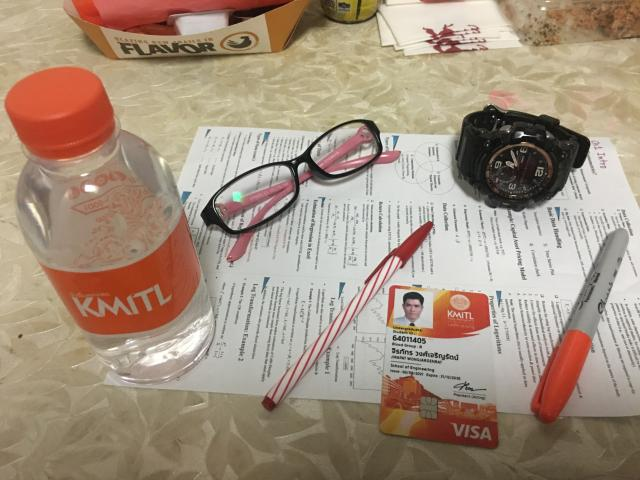Glasses: (201, 120, 399, 262)
Pen: (261, 221, 432, 410), (531, 229, 629, 422)
Watch: (456, 105, 590, 211)
bottle: (6, 68, 214, 384)
paper: (102, 126, 640, 416)
